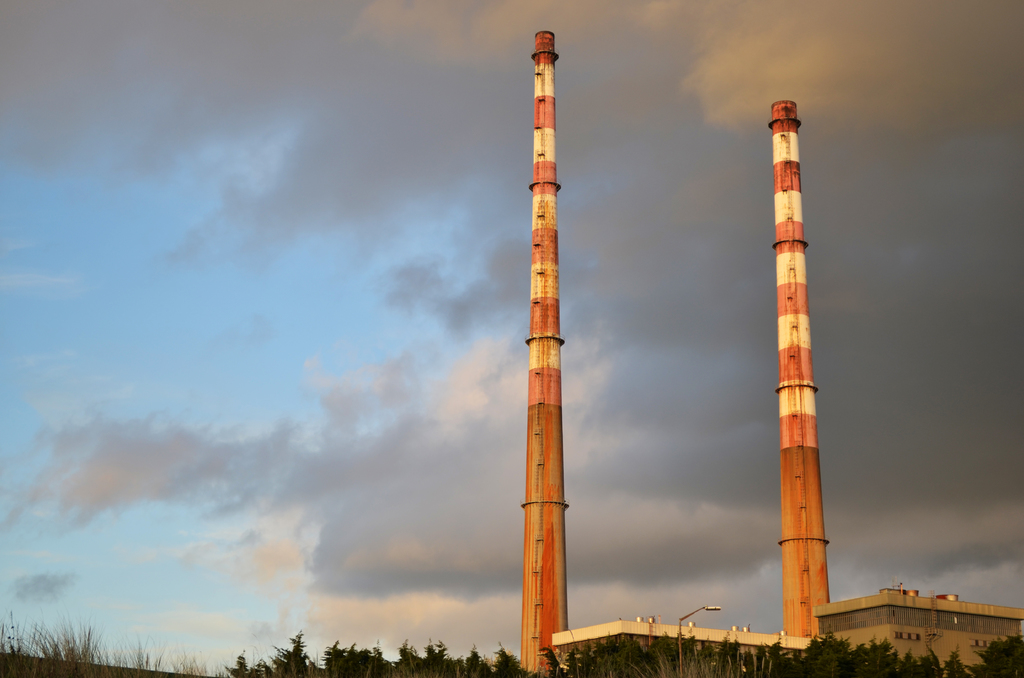Tree: (223, 629, 1023, 678)
